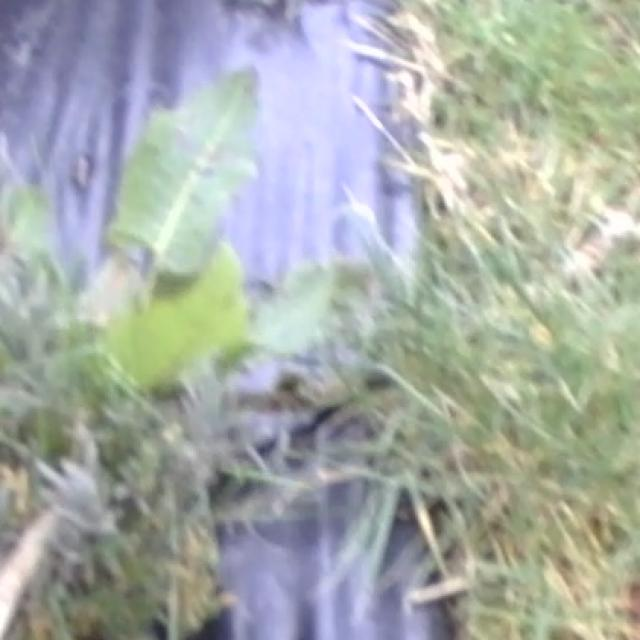organic waste: (60, 42, 425, 463)
